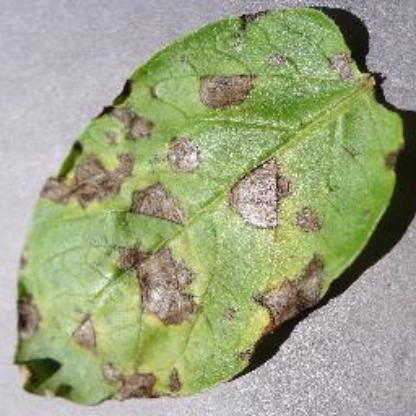Early-Blight: (13, 9, 406, 404)
